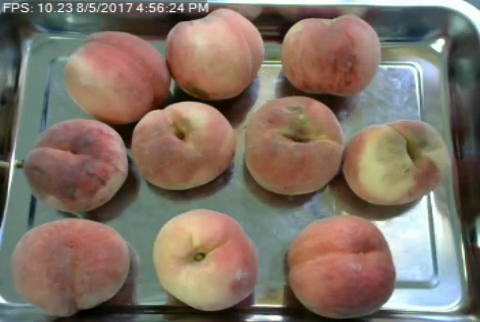Peach: (11, 219, 130, 316), (287, 215, 395, 318), (153, 207, 259, 311), (241, 95, 343, 194), (65, 29, 168, 125), (26, 118, 129, 213), (165, 6, 265, 102), (130, 100, 234, 190), (342, 119, 449, 206), (279, 14, 380, 98)
